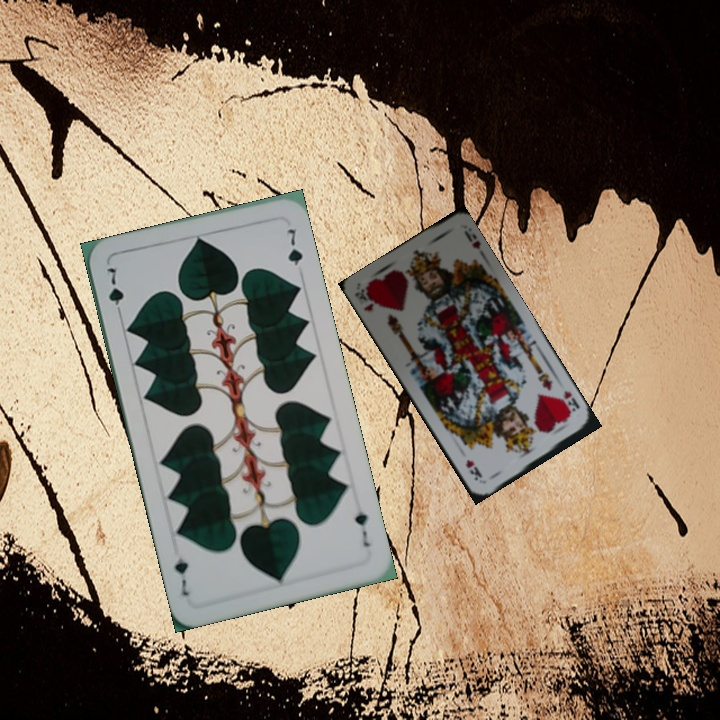G7: (102, 263, 127, 320), (350, 507, 372, 550)
HK: (351, 285, 378, 314), (559, 387, 582, 414)
